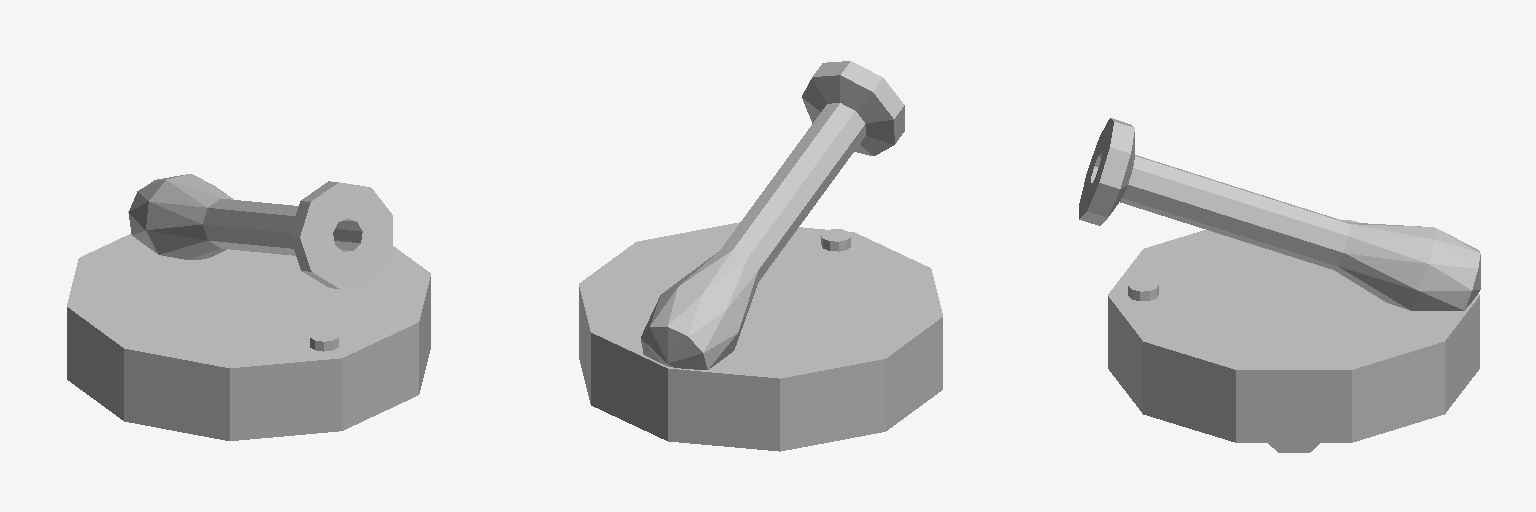
The model's file is room.bas.obj.
3 views of the same model, side by side, from view 1: azimuth 30°, elevation 25°; view 2: azimuth 150°, elevation 25°; view 3: azimuth 270°, elevation 25° (orthographic).
Parts seen in each view (by area): view 1: Solid1; view 2: Solid1; view 3: Solid1.
Part boxes in pixels (x1,y1,x2,y2): Solid1: (67,174,430,440); Solid1: (579,61,942,451); Solid1: (1079,118,1480,452).
Size of the model in its own units: 0.3424 by 0.2865 by 0.3876.